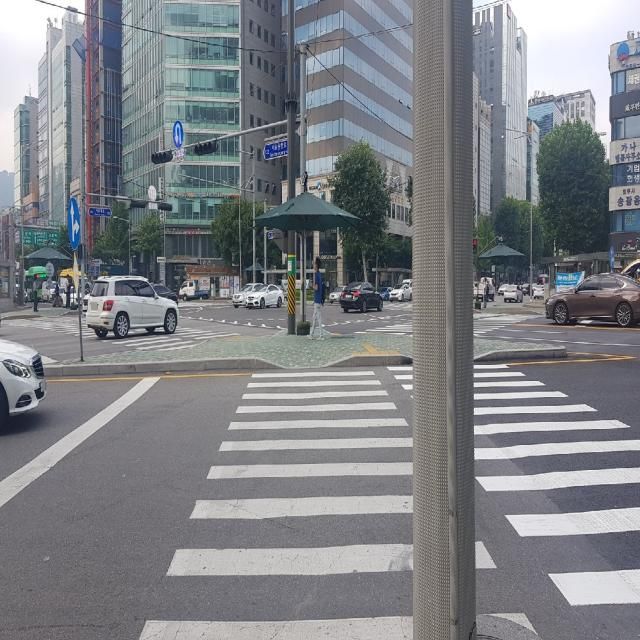횡단보도: (139, 362, 639, 640), (31, 318, 200, 336), (484, 312, 520, 334)
